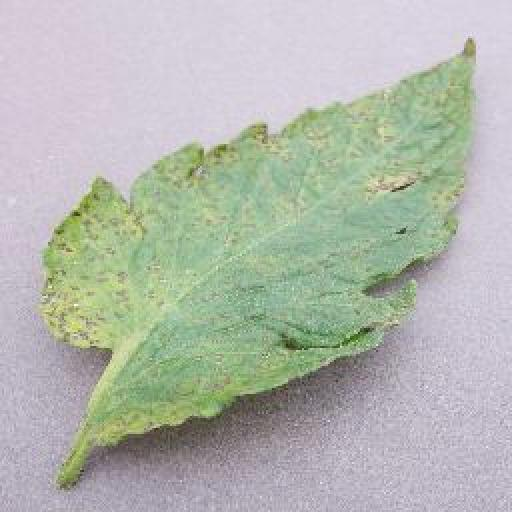disease_tomato: (43, 38, 479, 450)
